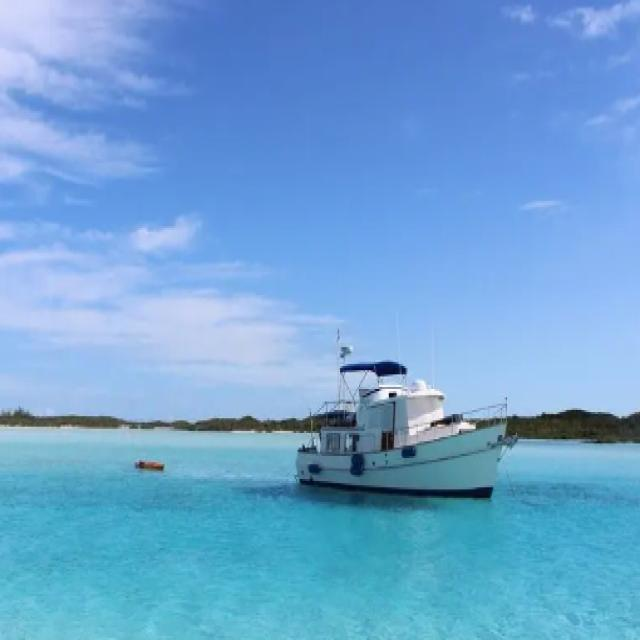houseboat: (290, 334, 510, 500)
